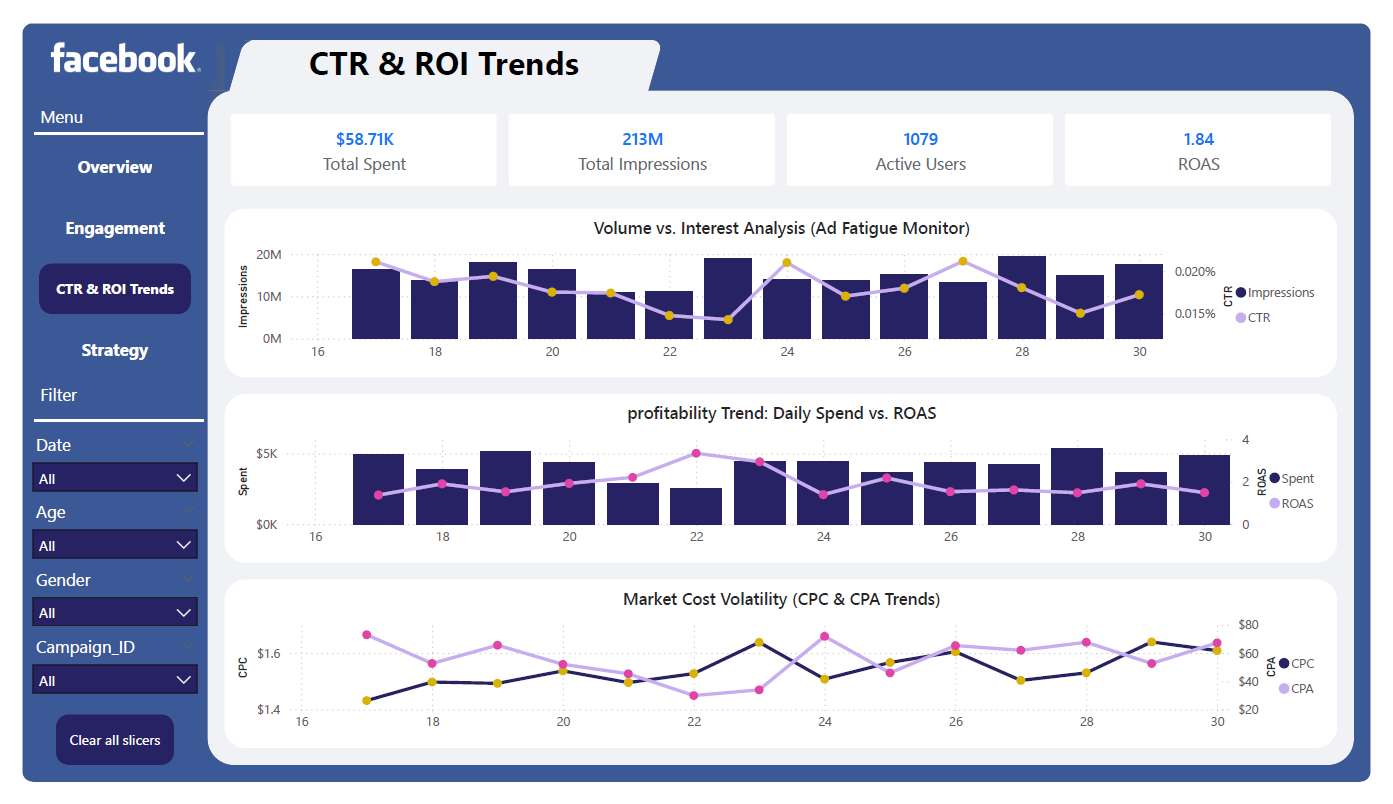

Layout of this report page (visuals, bound fields, positions):
{"tool":"powerbi","page":{"name":"CTR & ROI Trends","canvas":[1280,720],"ordinal":2},"visuals":[{"type":"shape","title":"bg","box":[0,0,1280,720],"z":0},{"type":"shape","box":[192,16,416,64],"z":500,"group":"g1"},{"type":"group","id":"g1","title":"Group 1","box":[176,16,1088,688],"z":1000},{"type":"shape","box":[176,64,1088,640],"z":1000,"group":"g1"},{"type":"textbox","box":[12,72.8,144,32],"z":2000},{"type":"shape","box":[12,96.8,160,16],"z":3000},{"type":"pageNavigator","box":[16,112,144,224],"z":4000},{"type":"textbox","box":[12,336.8,144,32],"z":5000},{"type":"shape","box":[12,368.8,160,16],"z":6000},{"type":"image","box":[8,8,176,48],"z":7000},{"type":"slicer","fields":{"Values":["Facebook Ads.reporting_start"]},"box":[0,384,176,64],"z":8000},{"type":"actionButton","box":[32,656,112,48],"z":9000},{"type":"slicer","fields":{"Values":["Facebook Ads.gender"]},"box":[0,512,176,64],"z":11000},{"type":"slicer","fields":{"Values":["Facebook Ads.campaign_id"]},"box":[0,576,176,64],"z":12000},{"type":"slicer","fields":{"Values":["Facebook Ads.age"]},"box":[0,448,176,64],"z":13000},{"type":"cardVisual","fields":{"Data":["_Key Measures.Total Spend","_Key Measures.Total Impressions","_Key Measures.Total Approved Conversions","_Key Measures.ROAS"]},"box":[192,80,1056,80],"z":14000},{"type":"lineStackedColumnComboChart","title":"Volume vs. Interest Analysis (Ad Fatigue Monitor)","fields":{"Category":["Facebook Ads.reporting_start.Variation.Date Hierarchy.Day"],"Y":["_Key Measures.Total Impressions"],"Y2":["_Key Measures.CTR"]},"box":[192,176,1056,160],"z":15000},{"type":"lineStackedColumnComboChart","title":"profitability Trend: Daily Spend vs. ROAS","fields":{"Category":["Facebook Ads.reporting_start.Variation.Date Hierarchy.Day"],"Y":["_Key Measures.Total Spent"],"Y2":["_Key Measures.ROAS"]},"box":[192,352,1056,160],"z":16000},{"type":"lineChart","title":"Market Cost Volatility (CPC & CPA Trends)","fields":{"Category":["Facebook Ads.reporting_start.Variation.Date Hierarchy.Day"],"Y":["_Key Measures.CPC"],"Y2":["_Key Measures.CPA"]},"box":[192,528,1056,160],"z":17003}]}

Visuals, with their boxes on the page's 1280x720 design canvas (x1, y1, x2, y2). These are canvas units, not pixel positions in the 1393x804 screenshot, which may show the page scaled, cropped or inside an application window:
"bg" shape: [0,0,1280,720]
shape: [192,16,608,80]
"Group 1" group: [176,16,1264,704]
shape: [176,64,1264,704]
textbox: [12,73,156,105]
shape: [12,97,172,113]
pageNavigator: [16,112,160,336]
textbox: [12,337,156,369]
shape: [12,369,172,385]
image: [8,8,184,56]
slicer - Facebook Ads.reporting_start: [0,384,176,448]
actionButton: [32,656,144,704]
slicer - Facebook Ads.gender: [0,512,176,576]
slicer - Facebook Ads.campaign_id: [0,576,176,640]
slicer - Facebook Ads.age: [0,448,176,512]
cardVisual - _Key Measures.Total Spend x _Key Measures.Total Impressions: [192,80,1248,160]
"Volume vs. Interest Analysis (Ad Fatigue Monitor)" lineStackedColumnComboChart: [192,176,1248,336]
"profitability Trend: Daily Spend vs. ROAS" lineStackedColumnComboChart: [192,352,1248,512]
"Market Cost Volatility (CPC & CPA Trends)" lineChart: [192,528,1248,688]
